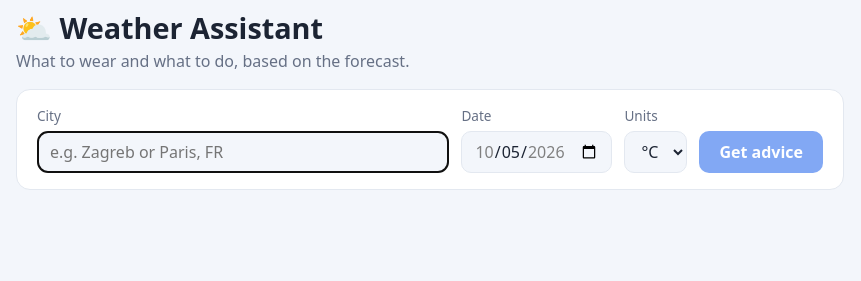
Test: App › explains when the backend is unreachable
Type "Zagreb" into the field labelled "City" at x=243, y=152, box [37,131,449,173]
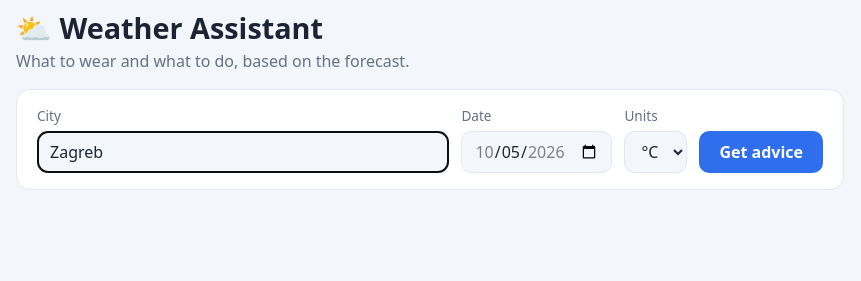
Click the button "Get advice" at x=761, y=152, box [699,131,823,173]
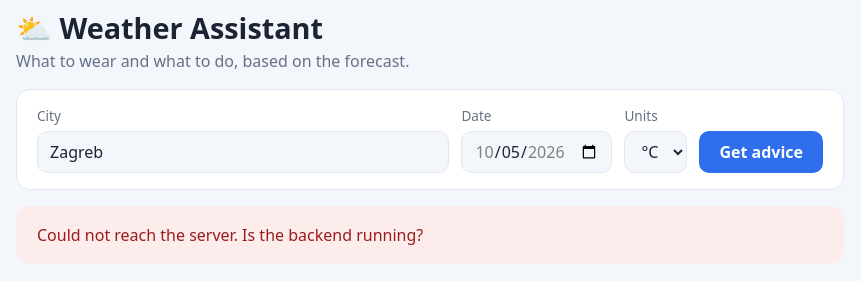
Expected: the message shows "Is the backend running?", [37,224,423,246]
